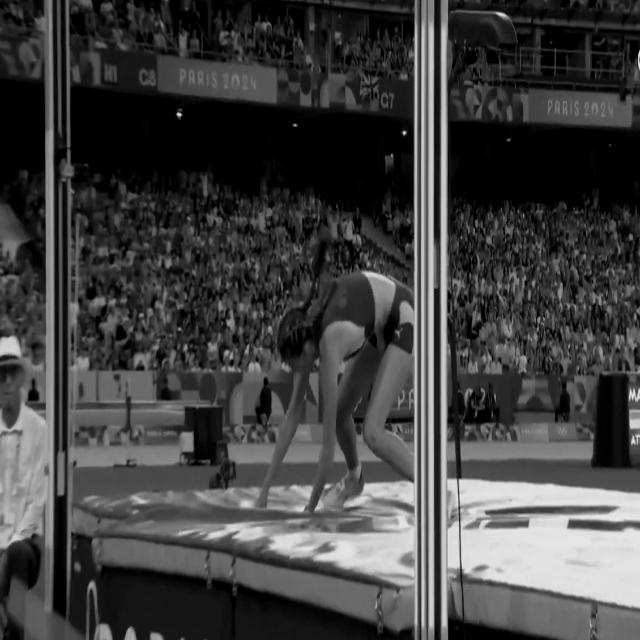land: (258, 226, 414, 516)
